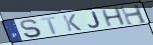H: (118, 3, 149, 26), (100, 6, 127, 28)
J: (87, 11, 103, 29)
K: (61, 13, 83, 33)
S: (19, 19, 43, 39)
T: (41, 16, 59, 35)
